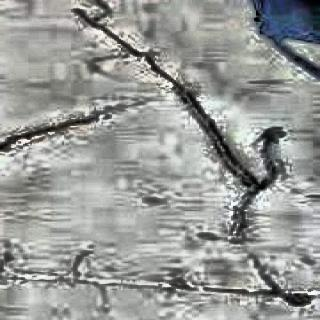crack: (70, 9, 289, 239), (2, 263, 320, 305), (0, 113, 95, 152)
